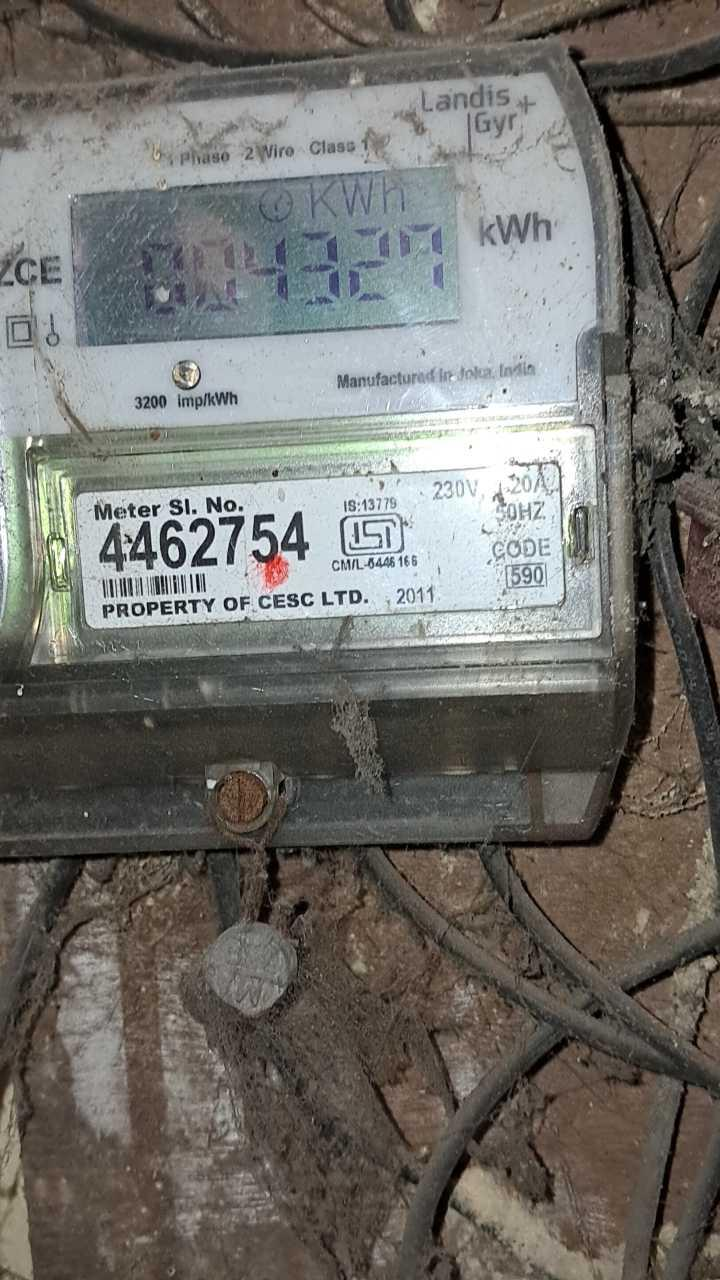meter_readings: (123, 220, 451, 324)
serial_number: (94, 519, 312, 568)
